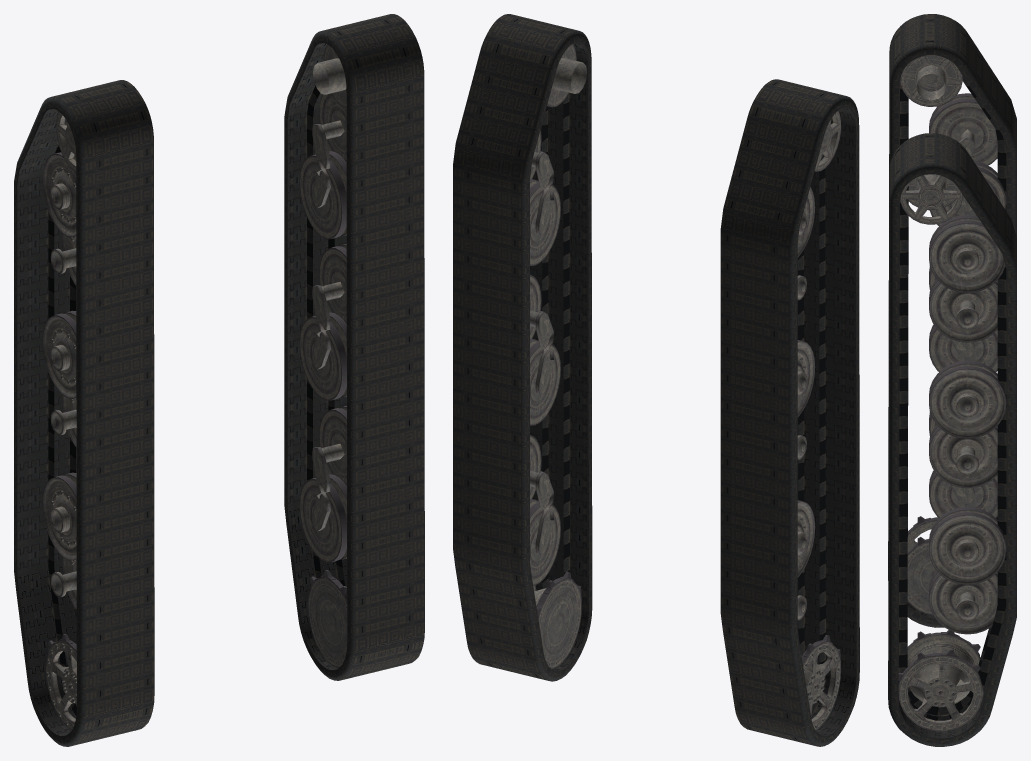
The model's file is Chassis.glb.
The picture shows the model from 3 angles, left to right: view 1: azimuth 30°, elevation 25°; view 2: azimuth 150°, elevation 25°; view 3: azimuth 270°, elevation 25°; orthographic projection. The views are drawn at different scales.
Visible parts, largest first — view 1: set_1_group_0, set_0_group_0, set_3_group_0, set_2_group_0; view 2: set_1_group_0, set_0_group_0, set_3_group_0, set_2_group_0; view 3: set_3_group_0, set_0_group_0, set_2_group_0, set_1_group_0.
Boxes of the visible parts, x1,y1,x2,y2 form: set_1_group_0: (14,80,154,746); set_0_group_0: (284,14,424,680); set_3_group_0: (299,44,347,667); set_2_group_0: (42,112,76,730); set_1_group_0: (720,79,859,746); set_0_group_0: (453,14,592,681); set_3_group_0: (530,44,587,668); set_2_group_0: (797,111,841,730); set_3_group_0: (898,174,1006,731); set_0_group_0: (888,133,1016,746); set_2_group_0: (900,55,1006,615); set_1_group_0: (888,14,1016,627).
Bounding box in the file's own units: 3.71 × 6.65 × 1.33.
4 materials, 4 textured.
